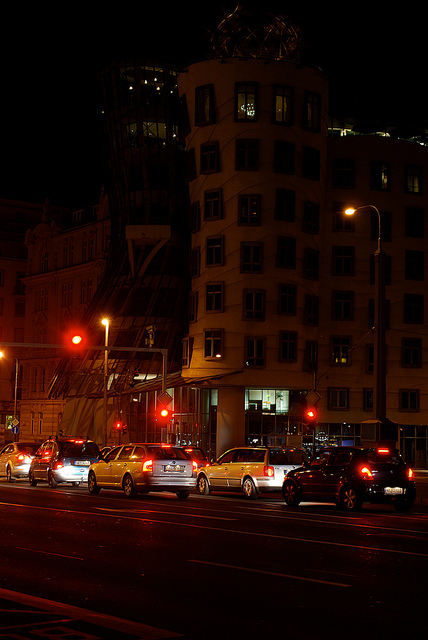car: (26, 435, 105, 488)
